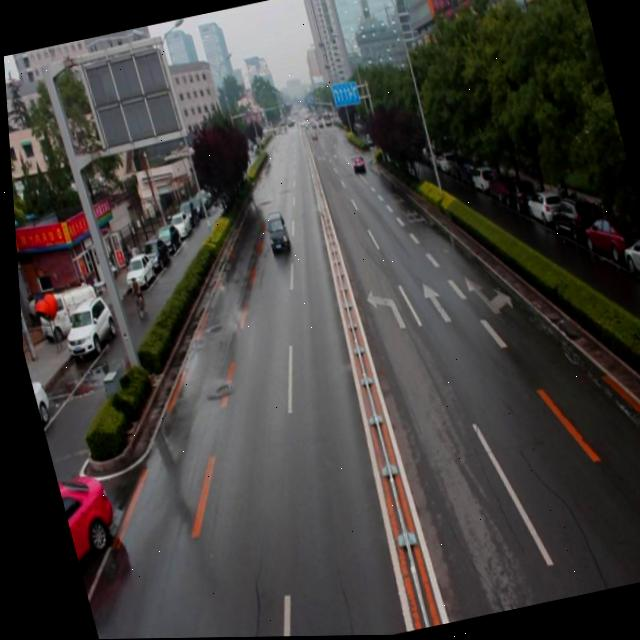car: (49, 466, 116, 563), (347, 154, 364, 176)
truck: (258, 211, 289, 257)
